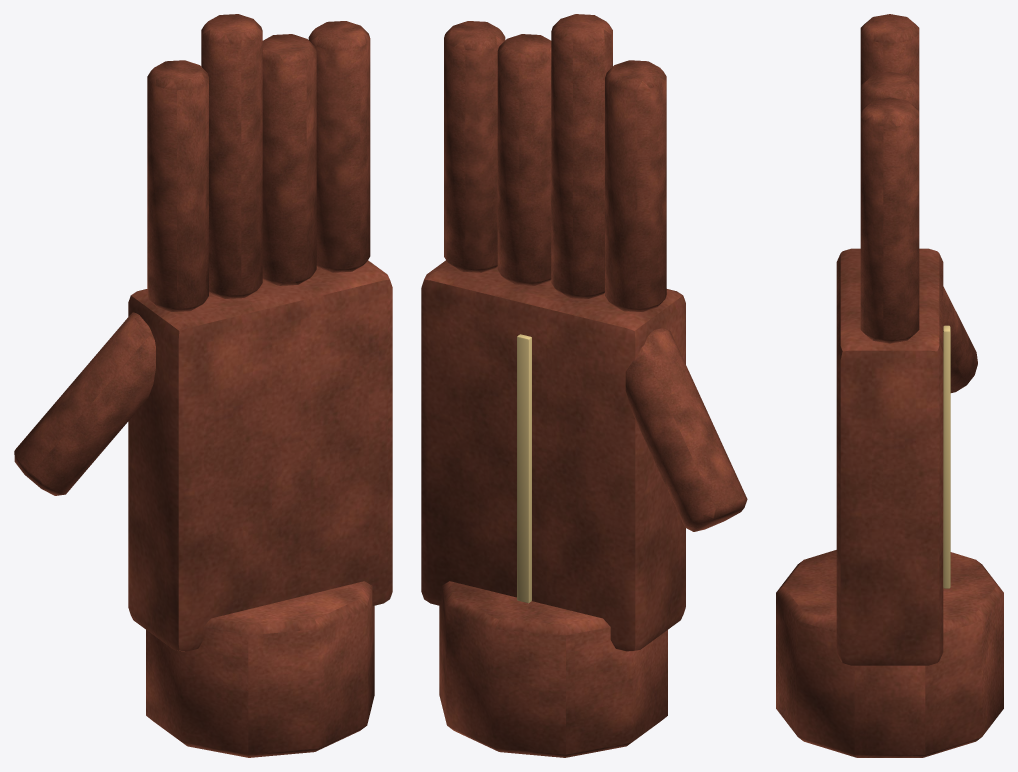
Rendered from basic_gloves.glb.
3 renders of one model, left to right at view 1: azimuth 30°, elevation 25°; view 2: azimuth 150°, elevation 25°; view 3: azimuth 270°, elevation 25°, orthographic. The views are drawn at different scales.
Parts seen in each view (by area): view 1: basic_gloves; view 2: basic_gloves; view 3: basic_gloves.
Part boxes in pixels (x1,y1,x2,y2): basic_gloves: (14,14,392,757); basic_gloves: (421,14,747,757); basic_gloves: (776,14,1003,757).
Bounding box in the file's own units: 0.1028 × 0.21 × 0.064.
Materials: 2 (2 with a texture image).
